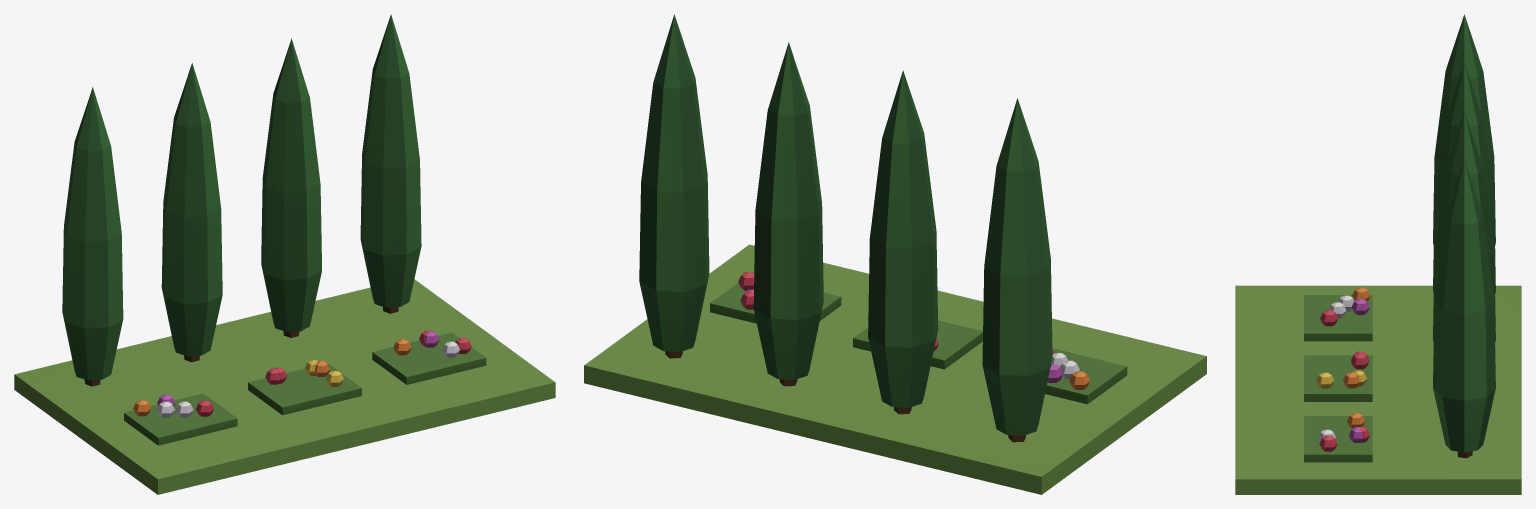
Rendered from city_palace_garden.glb.
The picture shows the model from 3 angles, left to right: view 1: azimuth 30°, elevation 25°; view 2: azimuth 150°, elevation 25°; view 3: azimuth 270°, elevation 25°; orthographic projection. The views are drawn at different scales.
Parts seen in each view (by area): view 1: city_palace_garden; view 2: city_palace_garden; view 3: city_palace_garden.
Part boxes in pixels (x1,y1,x2,y2): city_palace_garden: (14,14,555,494); city_palace_garden: (584,14,1206,494); city_palace_garden: (1235,14,1521,494).
Size of the model in its own units: 0.8 by 0.6 by 0.5.
